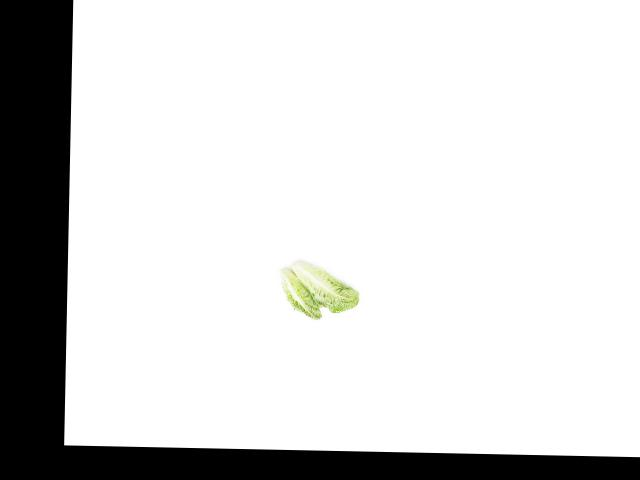lettuce: (295, 256, 360, 315)
